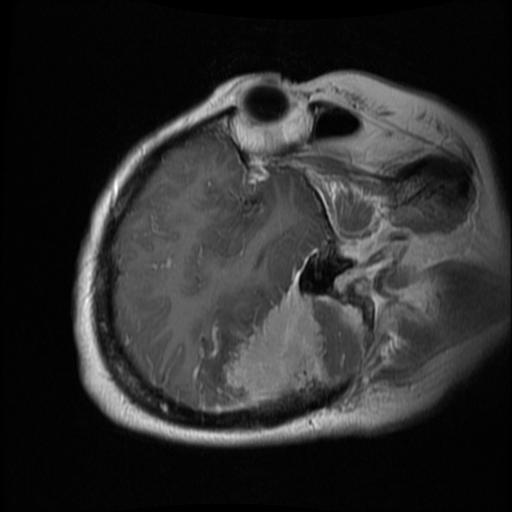meningioma: (223, 280, 331, 403)
